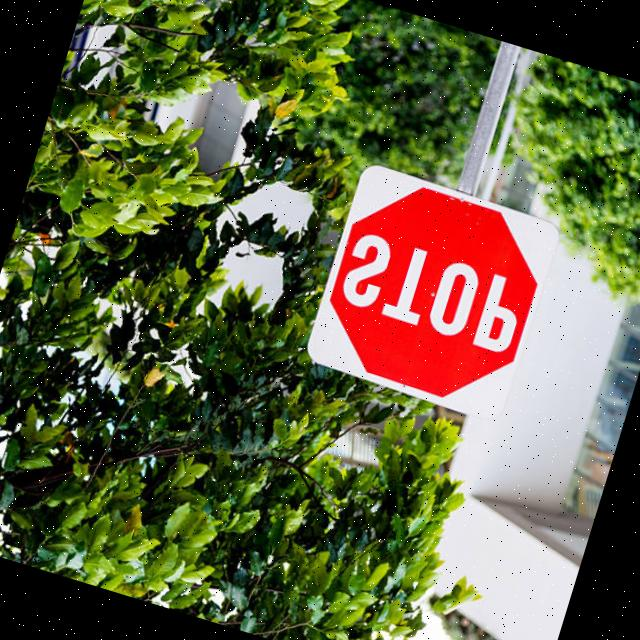stop: (302, 160, 560, 428)
